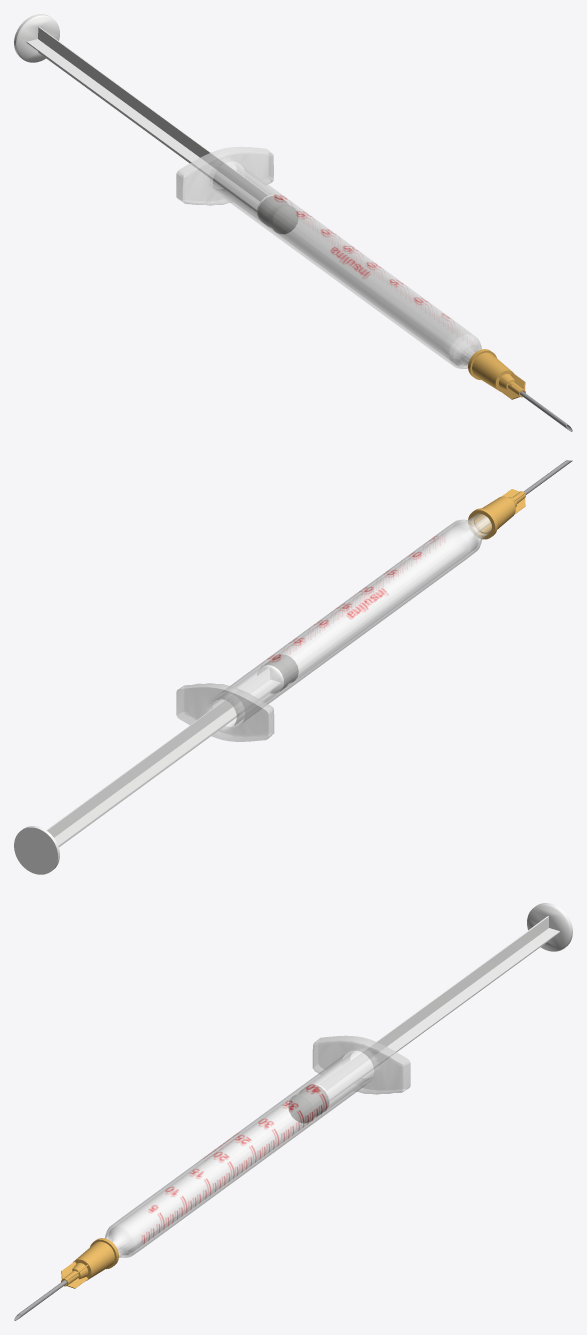
The model's file is kimtiemanim.FBX.
The picture shows the model from 3 angles, top to bottom: view 1: azimuth 30°, elevation 25°; view 2: azimuth 150°, elevation 25°; view 3: azimuth 330°, elevation 25°; orthographic projection.
Visible parts, largest first — view 1: pasted__pasted__vo, pasted__pasted__xilanh; view 2: pasted__pasted__vo, pasted__pasted__xilanh; view 3: pasted__pasted__vo, pasted__pasted__xilanh.
Boxes of the visible parts, x1,y1,x2,y2 form: pasted__pasted__vo: (176, 146, 572, 431); pasted__pasted__xilanh: (14, 14, 298, 233); pasted__pasted__vo: (176, 460, 572, 741); pasted__pasted__xilanh: (14, 654, 298, 874); pasted__pasted__vo: (14, 1035, 410, 1320); pasted__pasted__xilanh: (288, 903, 572, 1122).
Bounding box in the file's own units: 0.9781 × 0.5138 × 9.83.
5 materials, 1 textured.
